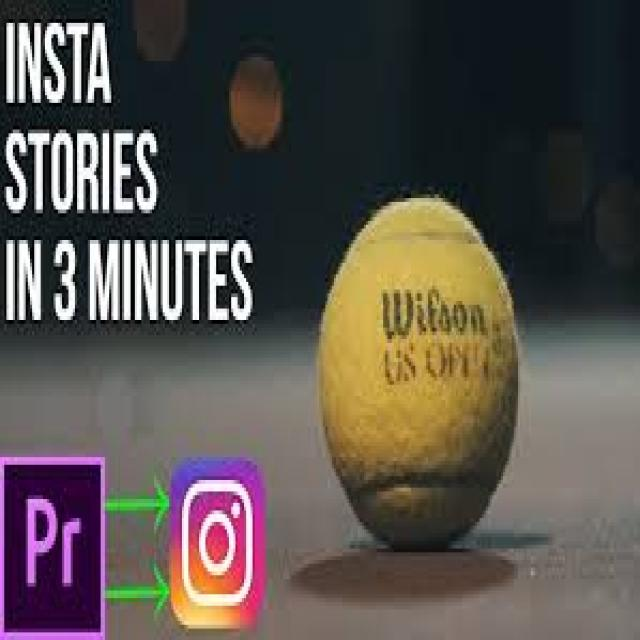tennis-ball: (318, 193, 521, 551)
